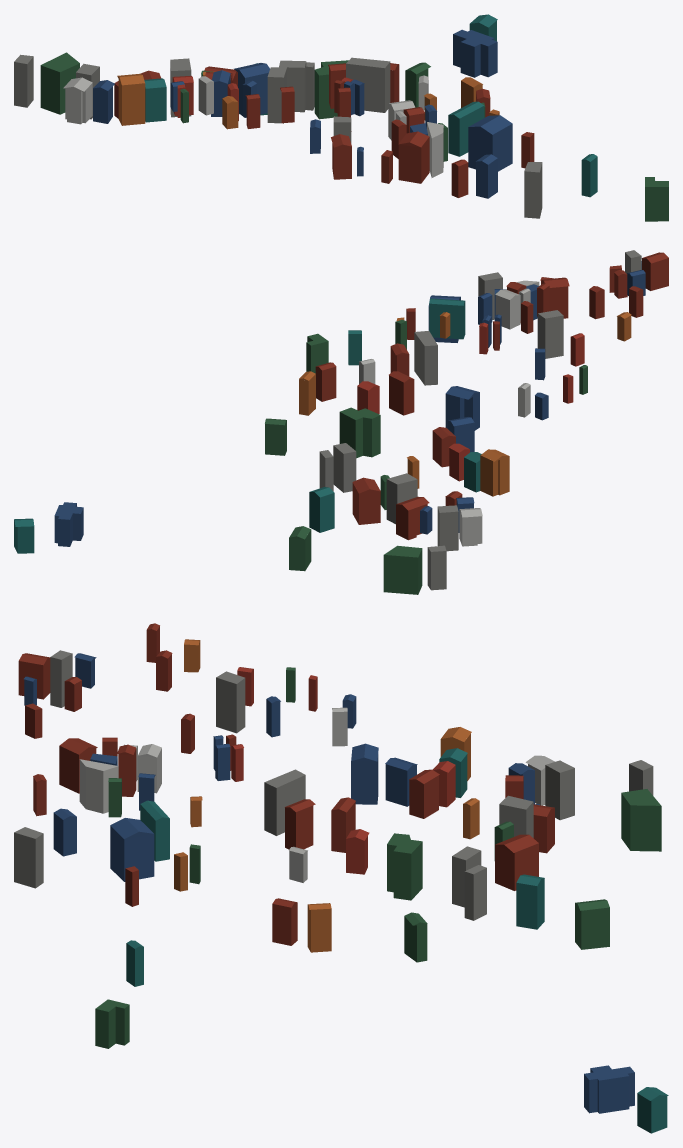
File: near-17-109457-59495.29d09e1a.glb
The picture shows the model from 3 angles, top to bottom: view 1: azimuth 30°, elevation 25°; view 2: azimuth 150°, elevation 25°; view 3: azimuth 270°, elevation 25°; orthographic projection. The views are drawn at different scales.
Size of the model in its own units: 271 by 128 by 294.
